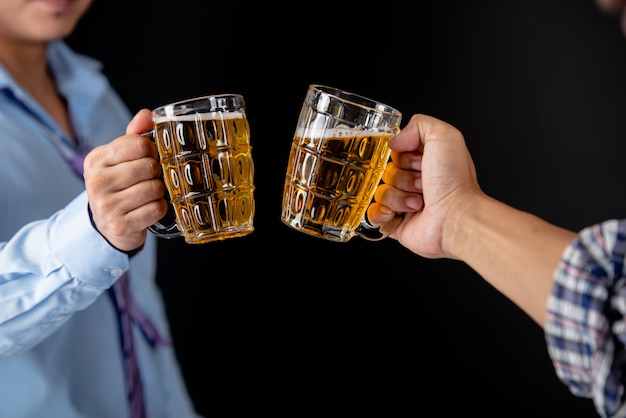alcohol: (279, 83, 415, 240), (133, 92, 256, 246)
